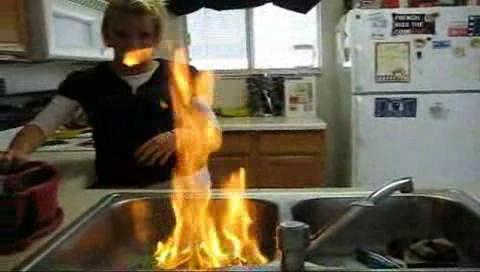fire: (162, 50, 264, 270)
